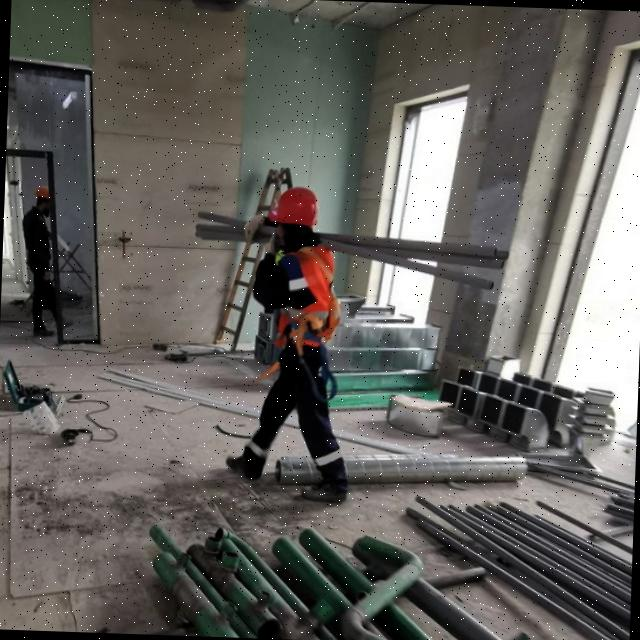Helmet: (270, 186, 320, 232), (35, 186, 50, 207)
Jacket: (275, 231, 339, 347)
NoJacket: (23, 208, 52, 271)
